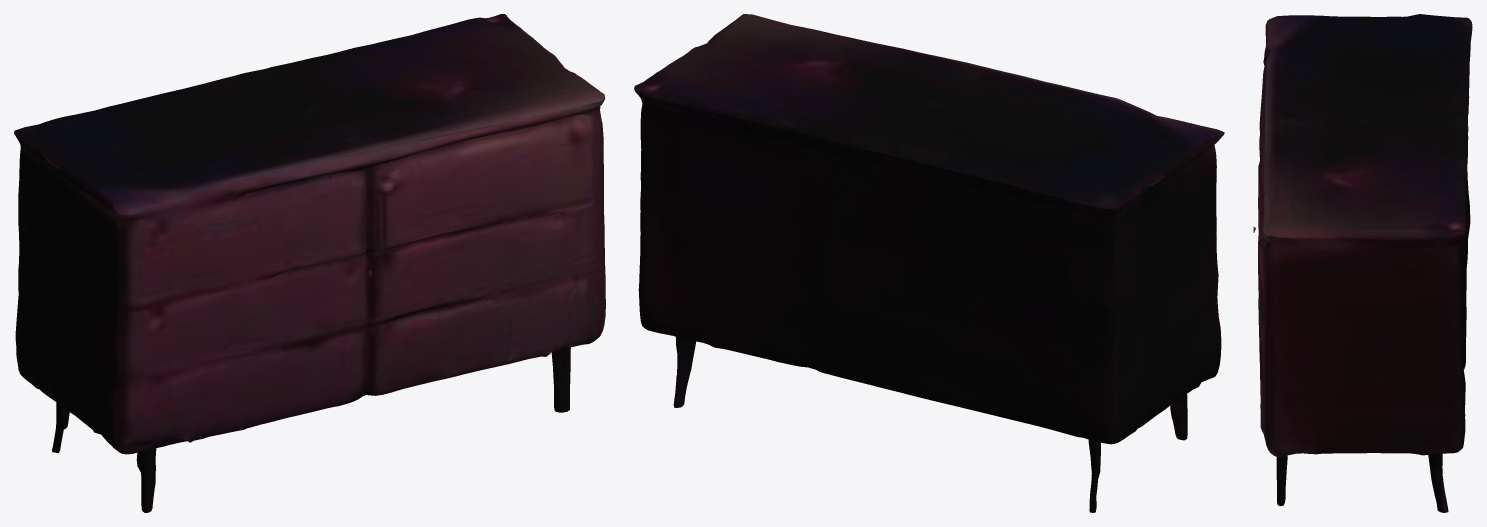
3 renders of one model, left to right at view 1: azimuth 30°, elevation 25°; view 2: azimuth 150°, elevation 25°; view 3: azimuth 270°, elevation 25°, orthographic. The views are drawn at different scales.
Parts seen in each view (by area): view 1: world; view 2: world; view 3: world.
Part boxes in pixels (x1=…): world: x1=14, y1=14, x2=605, y2=512; world: x1=634, y1=14, x2=1224, y2=512; world: x1=1253, y1=14, x2=1472, y2=512.
Size of the model in its own units: 0.9394 by 0.5971 by 0.3948.
Materials: 1 (1 with a texture image).
